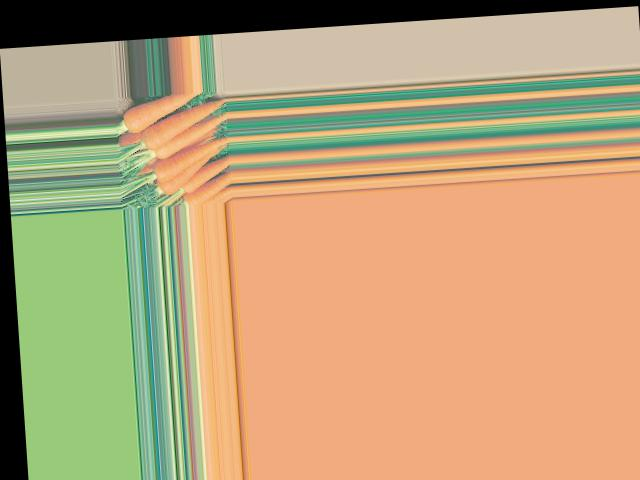carrot: (174, 160, 230, 197)
